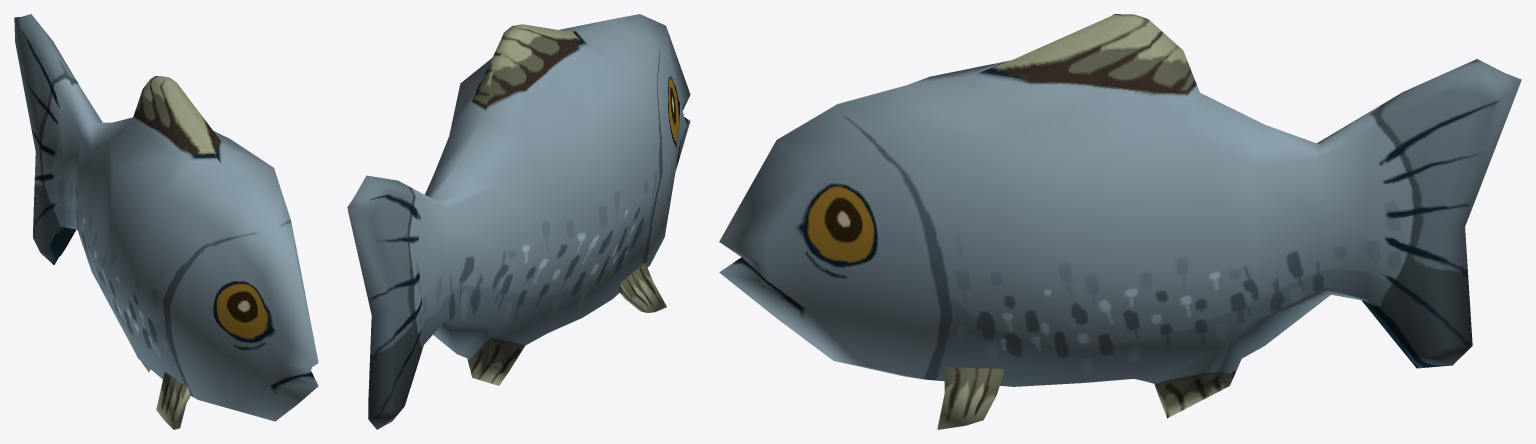
File: Matrinxa.fbx
3 views of the same model, side by side, from view 1: azimuth 30°, elevation 25°; view 2: azimuth 150°, elevation 25°; view 3: azimuth 270°, elevation 25° (orthographic). The views are drawn at different scales.
Parts seen in each view (by area): view 1: Matrinxã; view 2: Matrinxã; view 3: Matrinxã.
Part boxes in pixels (box(x1,y1,x2,y2)): Matrinxã: box(14, 14, 318, 429); Matrinxã: box(347, 14, 690, 429); Matrinxã: box(719, 14, 1521, 429).
Size of the model in its own units: 108 by 217 by 392.
Materials: 1 (1 with a texture image).
